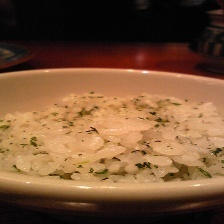rice: (0, 81, 224, 190)
